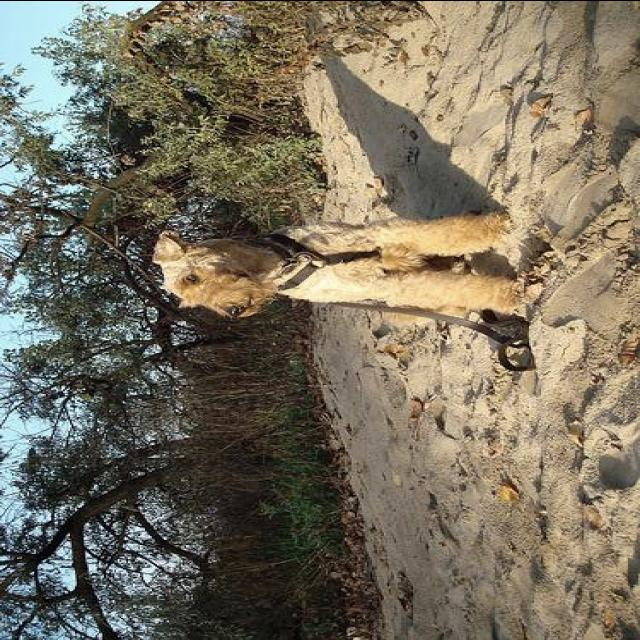airedale: (152, 206, 528, 318)
